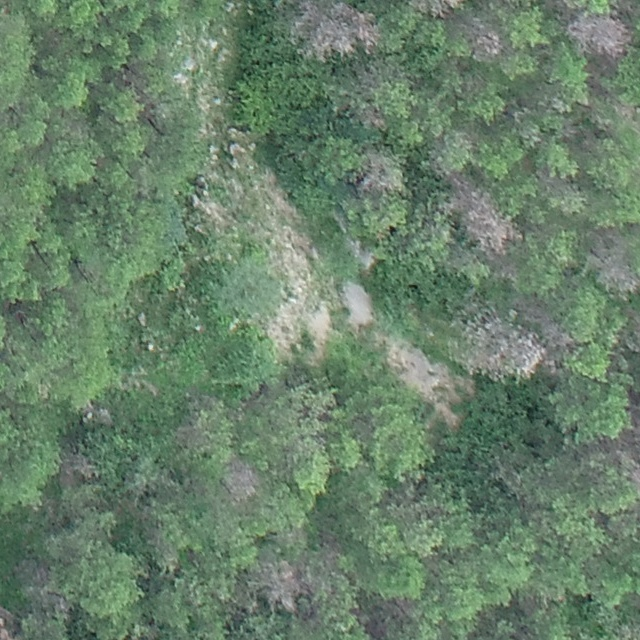unhealthy: (465, 306, 553, 376), (454, 183, 520, 256), (16, 557, 70, 618), (568, 12, 632, 60), (588, 234, 635, 297), (257, 557, 306, 611), (306, 7, 354, 61), (175, 400, 221, 451), (355, 150, 404, 194), (221, 459, 261, 504), (464, 20, 504, 60), (58, 450, 98, 485), (355, 11, 388, 52), (79, 399, 113, 428), (411, 0, 460, 18), (356, 105, 388, 131), (0, 601, 20, 639), (628, 460, 640, 491)
